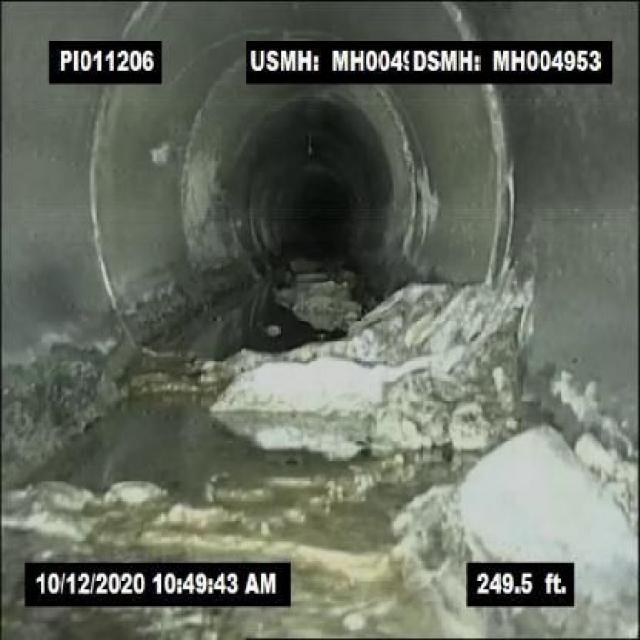Obstacle: (213, 276, 522, 426), (451, 424, 637, 610)
